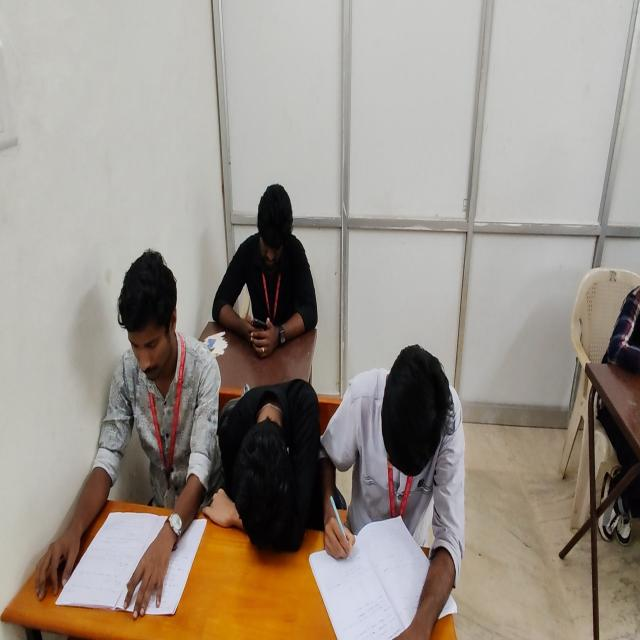reading: (34, 250, 226, 624), (320, 347, 464, 640)
sleeping: (211, 375, 332, 556)
using_mobile: (212, 182, 318, 356)
